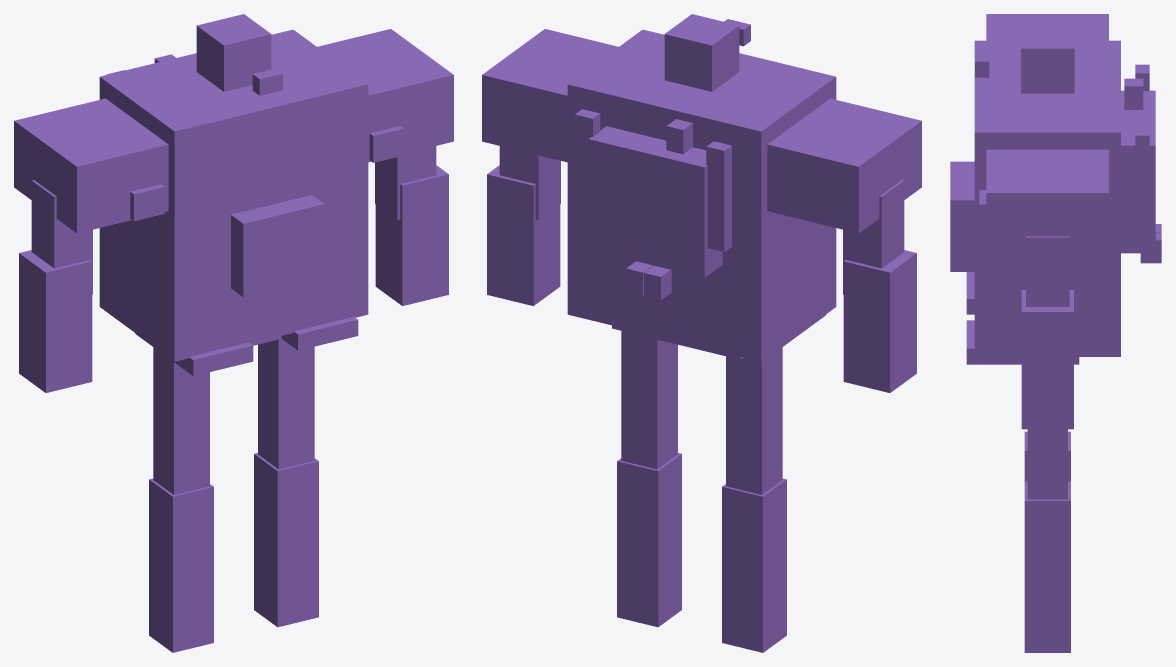
The model's file is mechfall_scorch.obj.
3 renders of one model, left to right at view 1: azimuth 30°, elevation 25°; view 2: azimuth 150°, elevation 25°; view 3: azimuth 270°, elevation 25°, orthographic. The views are drawn at different scales.
Visible parts, largest first — view 1: mechfall_scorch; view 2: mechfall_scorch; view 3: mechfall_scorch.
Boxes of the visible parts, x1,y1,x2,y2 form: mechfall_scorch: (14,14,453,652); mechfall_scorch: (482,14,921,652); mechfall_scorch: (950,14,1161,652).
Size of the model in its own units: 6.27 by 8.86 by 2.93.
